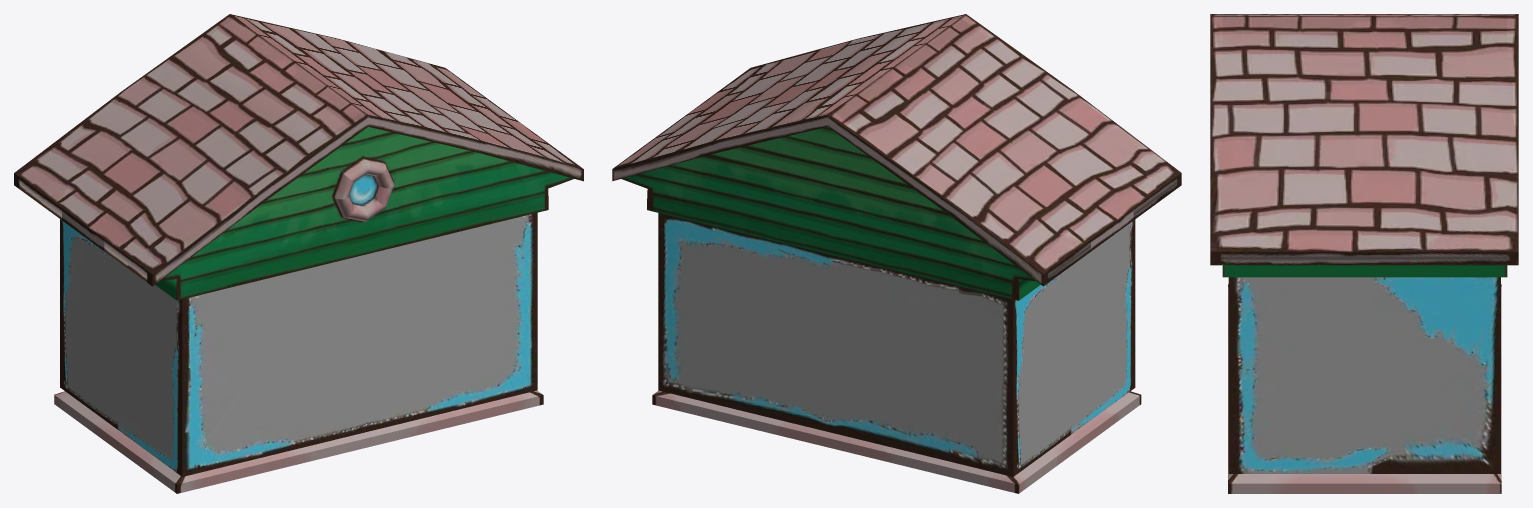
Rendered from furnished_aquarium_apartment-b48e3ba3.glb.
3 renders of one model, left to right at view 1: azimuth 30°, elevation 25°; view 2: azimuth 150°, elevation 25°; view 3: azimuth 270°, elevation 25°, orthographic. The views are drawn at different scales.
Visible parts, largest first — view 1: Object_18, Object_5; view 2: Object_18, Object_5; view 3: Object_18, Object_5.
Boxes of the visible parts, x1,y1,x2,y2 form: Object_18: (14, 14, 583, 493); Object_5: (60, 212, 537, 476); Object_18: (612, 14, 1181, 493); Object_5: (658, 213, 1135, 476); Object_18: (1210, 14, 1518, 493); Object_5: (1228, 277, 1500, 473).
Size of the model in its own units: 22.91 by 17.24 by 12.74.
Materials: 21 (20 with a texture image).
